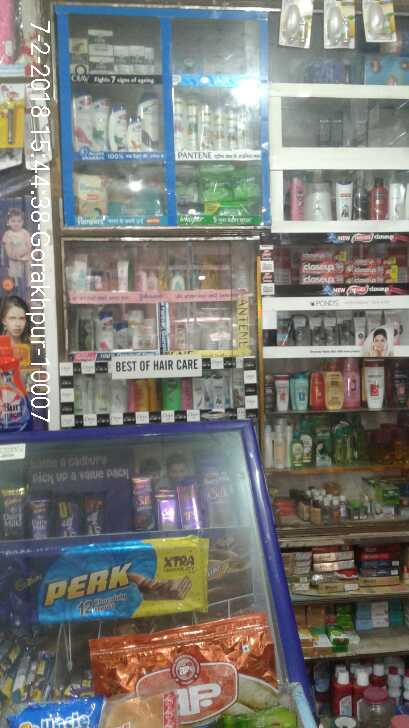venus: (175, 52, 201, 72)
